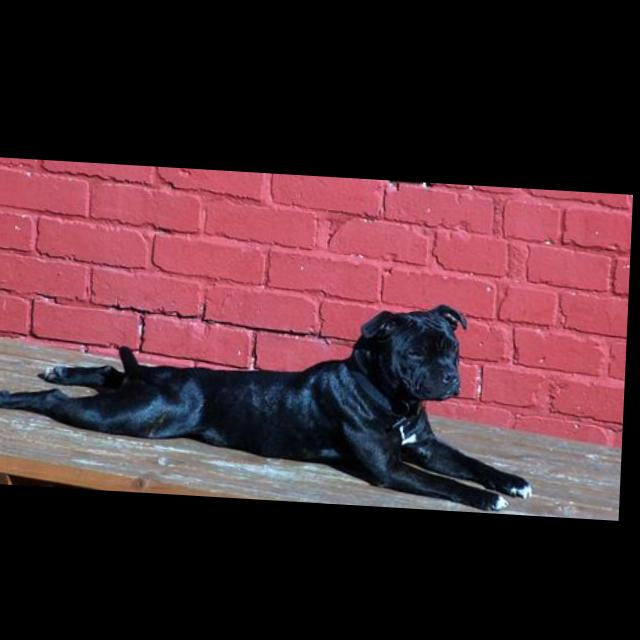staffford: (1, 277, 543, 507)
